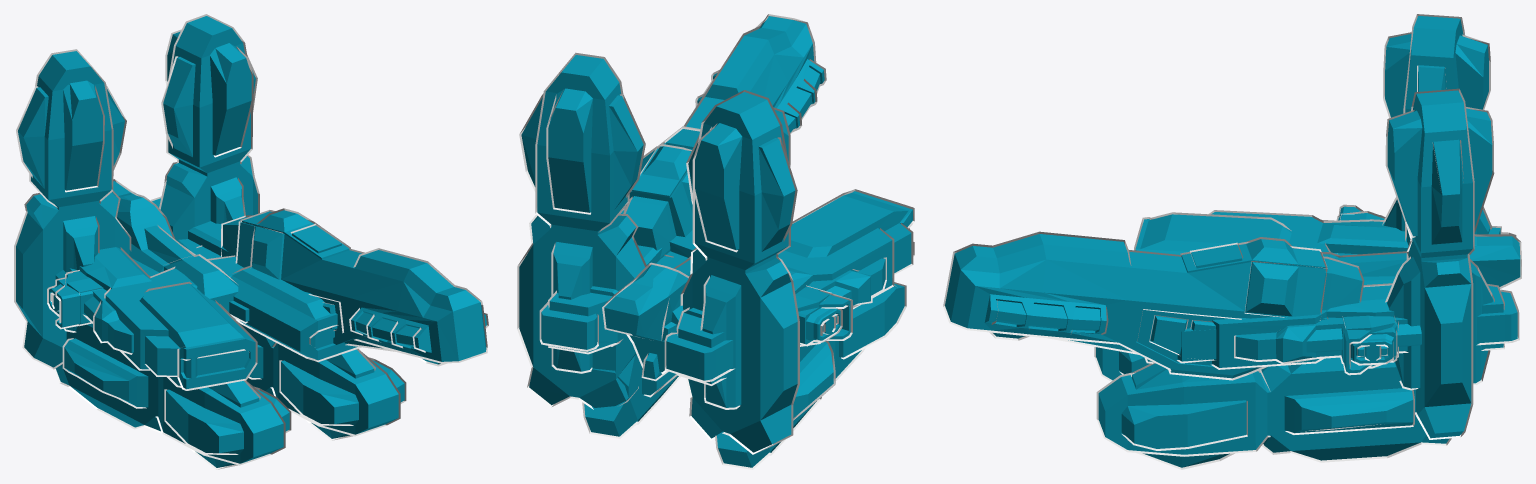
Rendered from ship13_blue.glb.
3 views of the same model, side by side, from view 1: azimuth 30°, elevation 25°; view 2: azimuth 150°, elevation 25°; view 3: azimuth 270°, elevation 25° (orthographic). The views are drawn at different scales.
Parts seen in each view (by area): view 1: ME_ship_IndexedFaceSet; view 2: ME_ship_IndexedFaceSet; view 3: ME_ship_IndexedFaceSet.
Part boxes in pixels (x1=…): ME_ship_IndexedFaceSet: x1=14, y1=14, x2=488, y2=469; ME_ship_IndexedFaceSet: x1=517, y1=14, x2=914, y2=469; ME_ship_IndexedFaceSet: x1=943, y1=14, x2=1521, y2=469.
Size of the model in its own units: 307 by 364 by 524.
